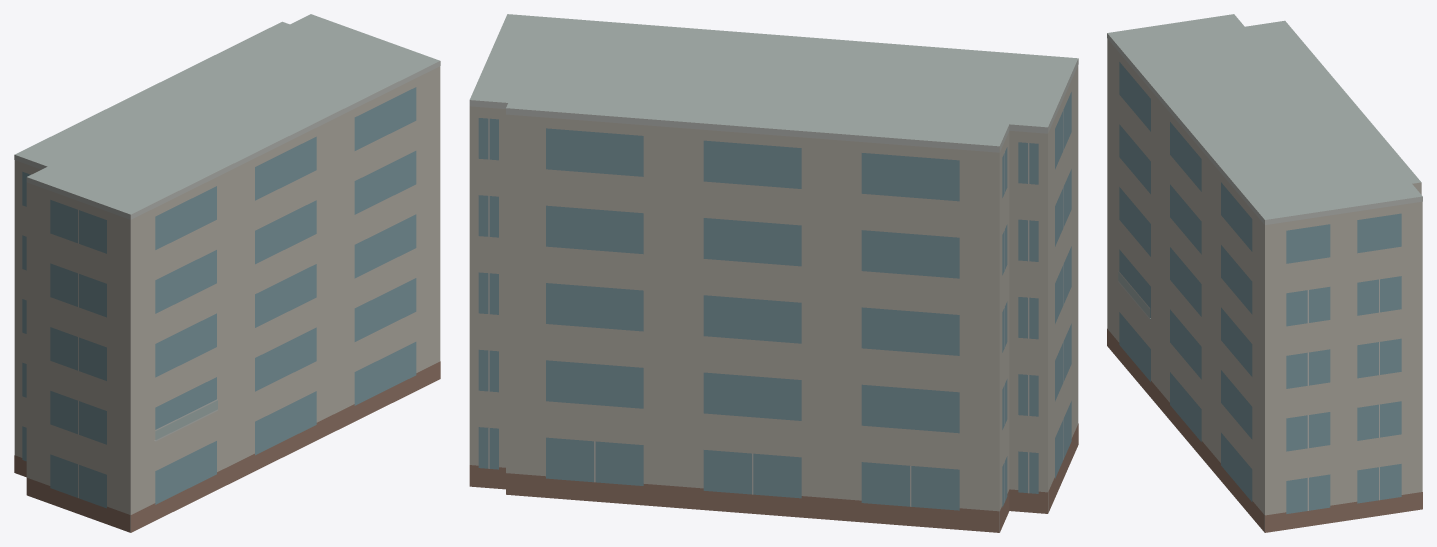
The model's file is survey-upis-32628992.glb.
The picture shows the model from 3 angles, left to right: view 1: azimuth 30°, elevation 25°; view 2: azimuth 150°, elevation 25°; view 3: azimuth 270°, elevation 25°; orthographic projection. The views are drawn at different scales.
Parts seen in each view (by area): view 1: survey-upis-32628992.tmp; view 2: survey-upis-32628992.tmp; view 3: survey-upis-32628992.tmp.
Boxes of the visible parts, x1,y1,x2,y2 form: survey-upis-32628992.tmp: (14, 14, 440, 532); survey-upis-32628992.tmp: (469, 14, 1078, 532); survey-upis-32628992.tmp: (1107, 14, 1422, 532).
Size of the model in its own units: 20.91 by 14.8 by 13.54.
